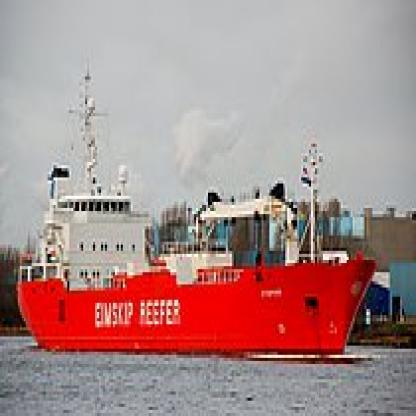Tanker: (35, 101, 356, 367)
